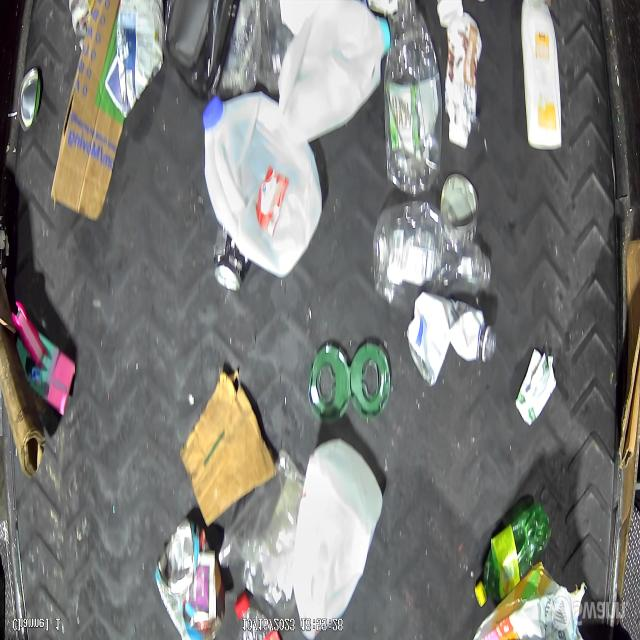can: (154, 518, 226, 640), (440, 173, 480, 241), (214, 221, 250, 289), (16, 67, 42, 134)
milk_jug: (202, 90, 322, 278), (292, 439, 382, 640), (277, 0, 390, 144)
plastic_bottle: (373, 204, 491, 305), (385, 0, 442, 197), (408, 291, 497, 384), (475, 503, 553, 607), (235, 594, 280, 640)
